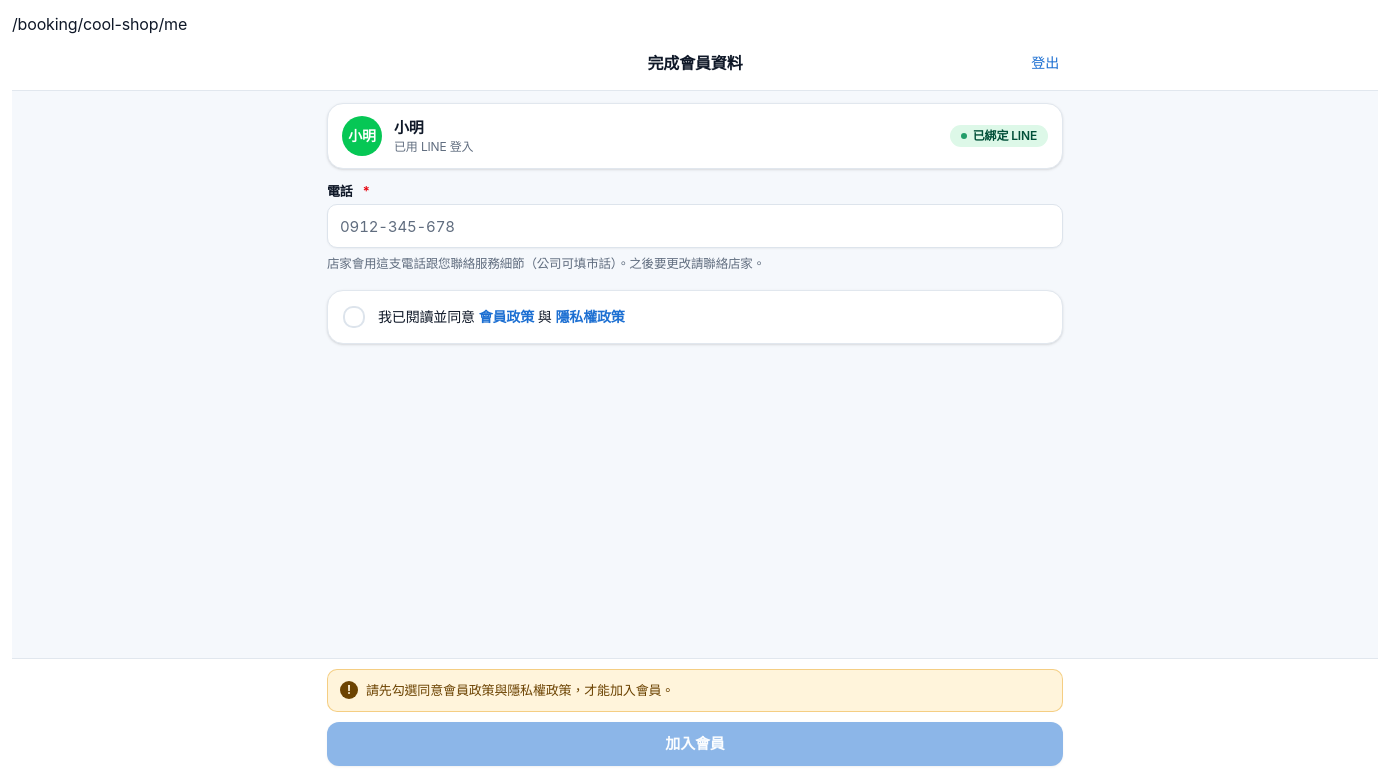
Test: C4-B02 / B03 狀態機 › 登入回來、還沒接上 ⇒ ⑥-2「加入會員」⇒ 完成後會員中心首頁 + 提示「已加入」
Check: the element with test id "customer-profile" is shown, box [327,103,1063,344]
Check: the button with test id "customer-profile-submit" reads "加入會員", box [327,722,1063,766]
Type "0912345678" into the field labelled "電話 *".
click(695, 226); type("0912345678")  # box [327,204,1063,248]
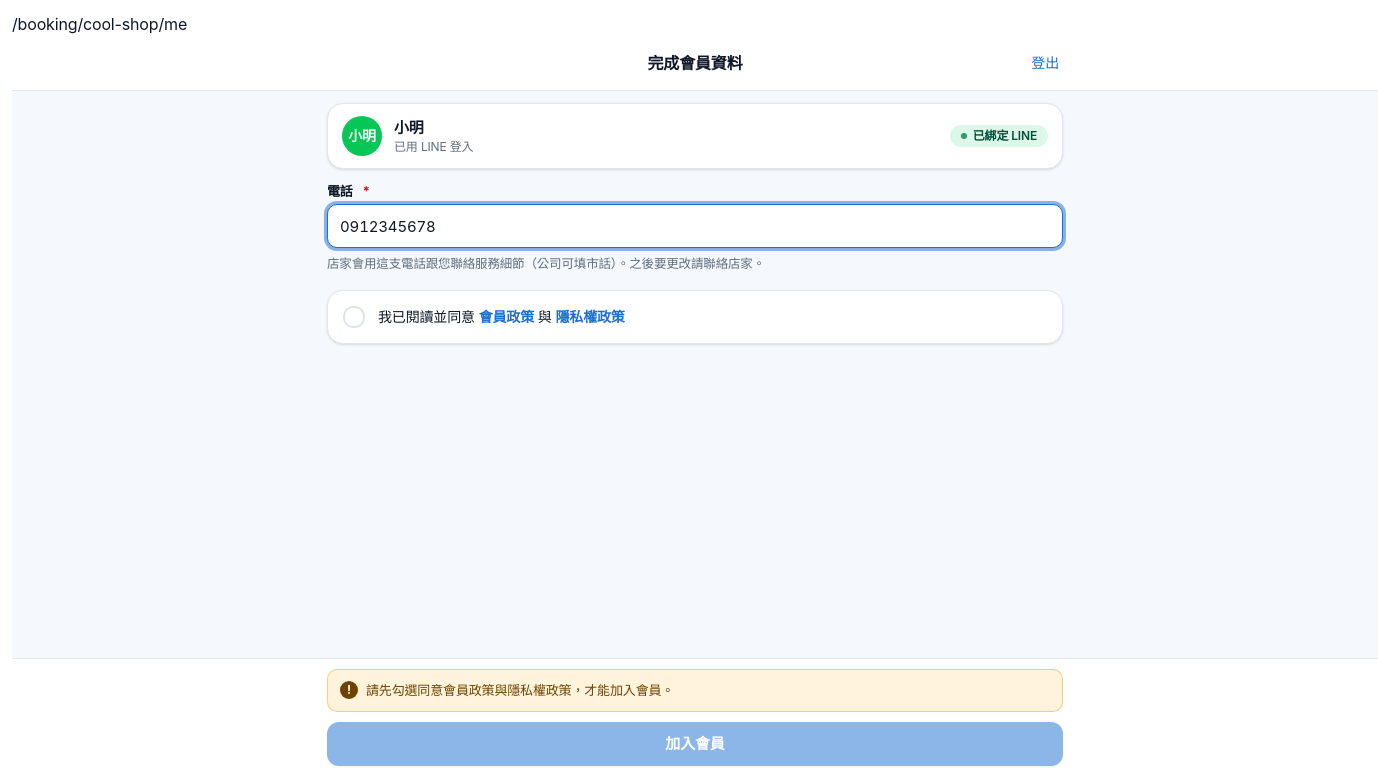
Click the checkbox with test id "customer-profile-consent".
click(354, 317)  # box [332,295,376,339]
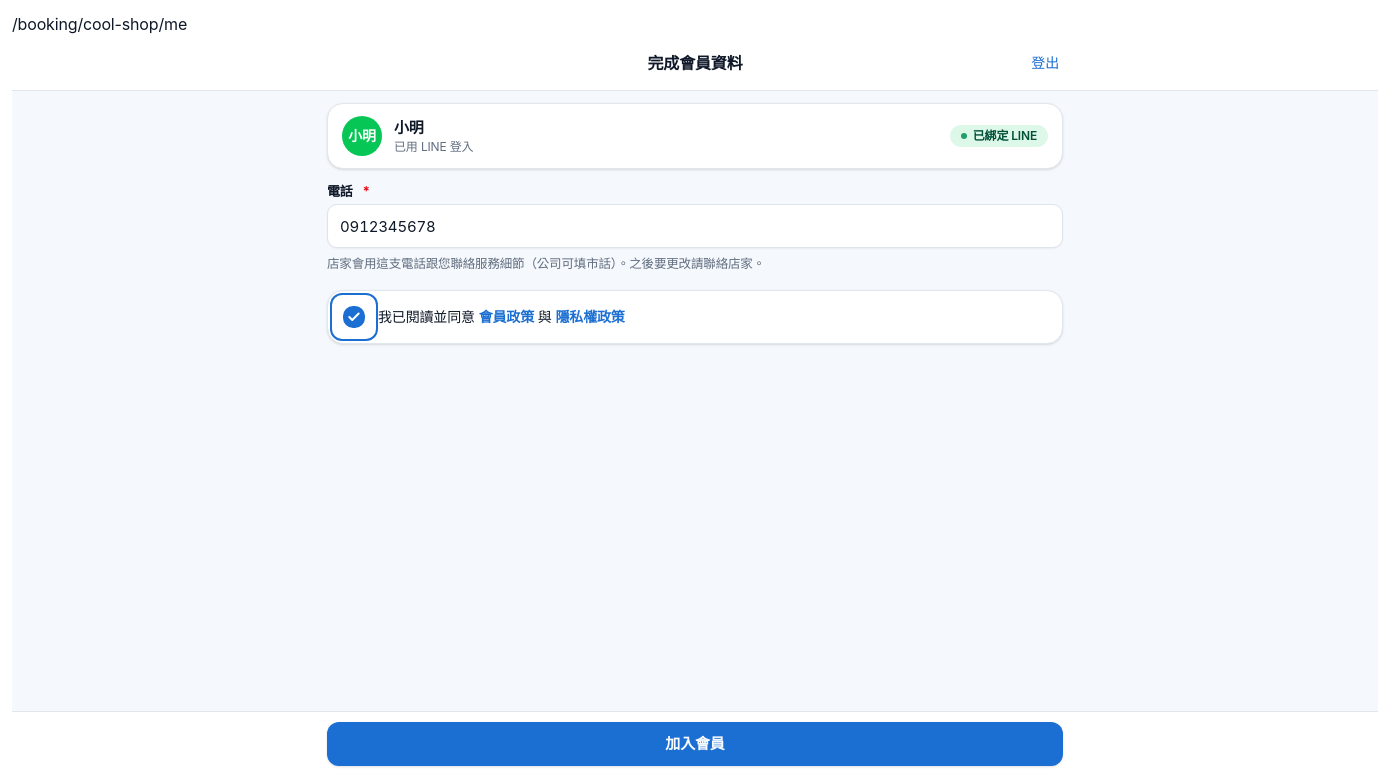
Click the button with test id "customer-profile-submit".
click(695, 744)  # box [327,722,1063,766]
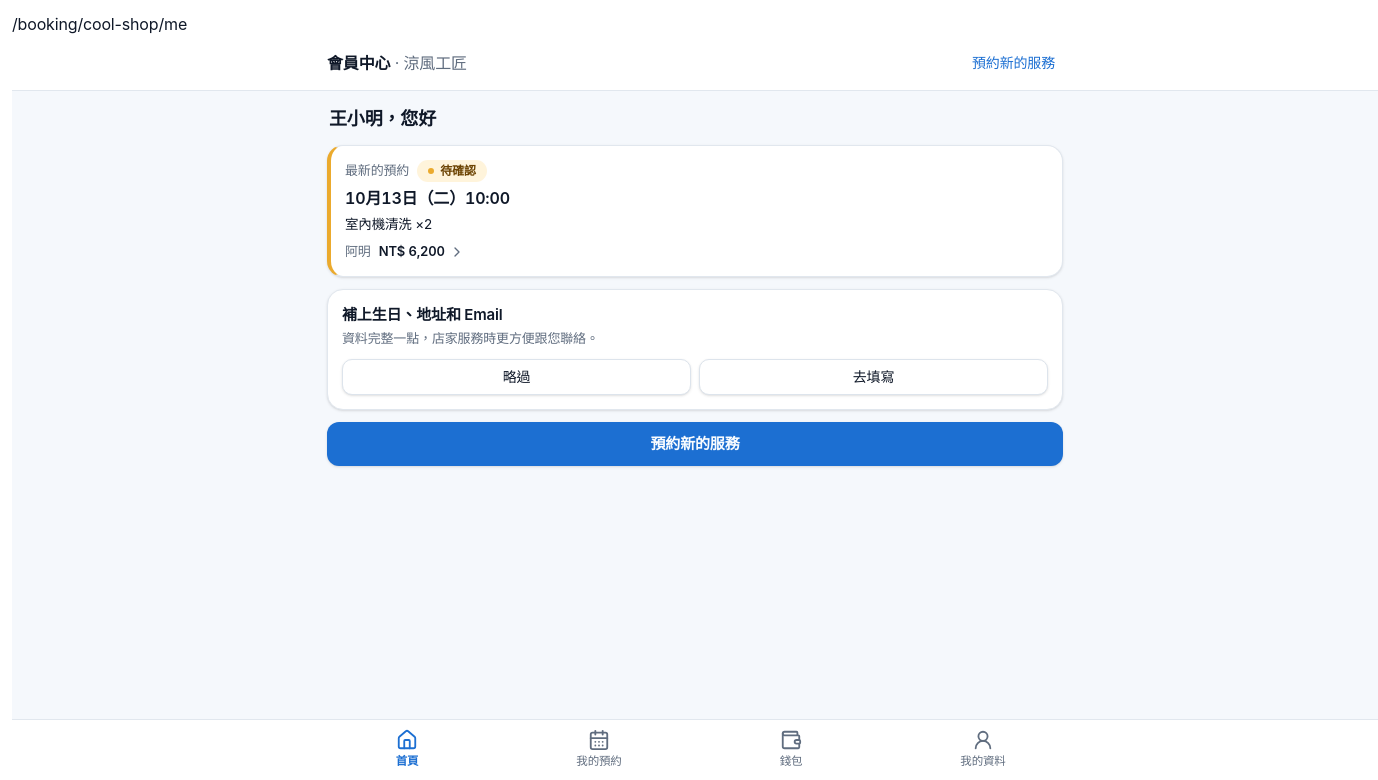
Check: the text "王小明，您好" is shown, box [329,108,436,129]
